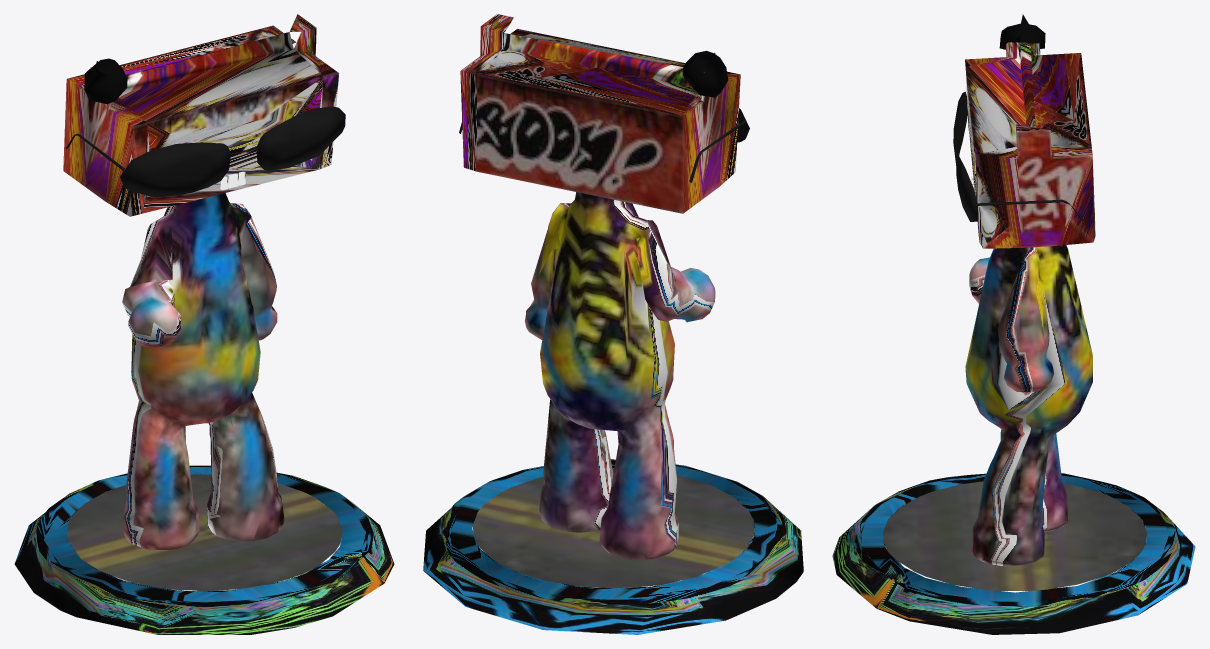
3 renders of one model, left to right at view 1: azimuth 30°, elevation 25°; view 2: azimuth 150°, elevation 25°; view 3: azimuth 270°, elevation 25°, orthographic. The views are drawn at different scales.
Size of the model in its own units: 1.44 by 2.18 by 1.44.
7 materials, 4 textured.
